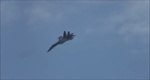maybay_muctieu: (47, 32, 74, 55)
